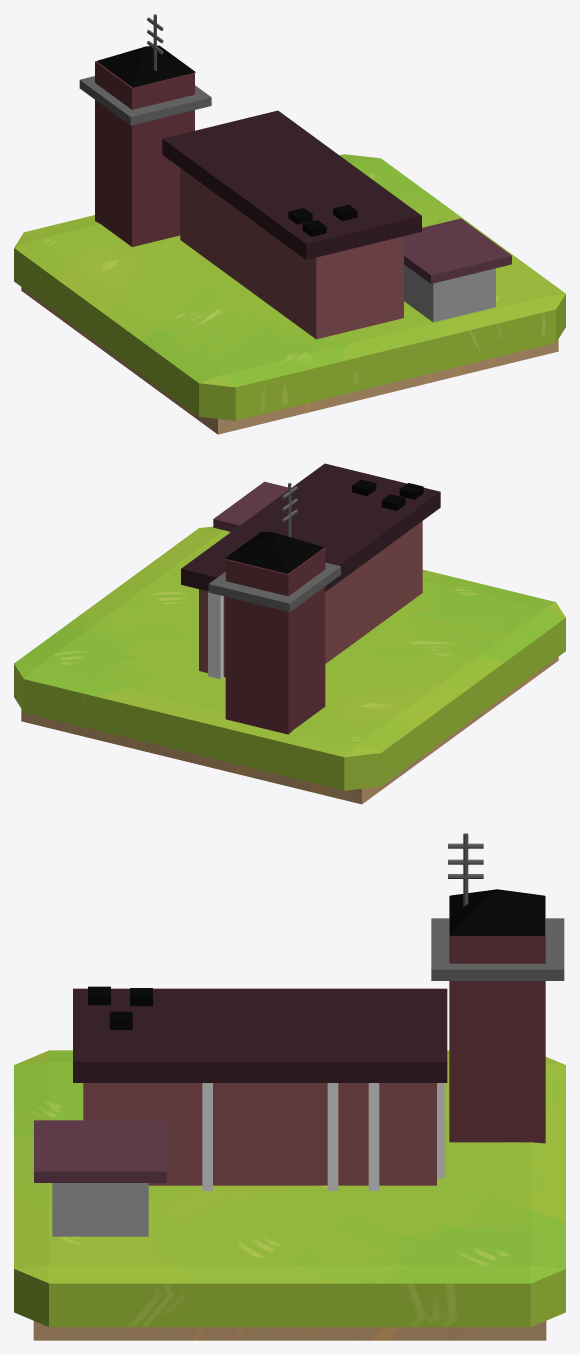
Rendered from feuerstationtile.fbx.
3 renders of one model, top to bottom at view 1: azimuth 30°, elevation 25°; view 2: azimuth 150°, elevation 25°; view 3: azimuth 270°, elevation 25°, orthographic. The views are drawn at different scales.
Parts seen in each view (by area): view 1: Cube.001, Cube.005, Cube.002, Cube.004, Cube.006, Cube, Cube.003, Cone, Cube.007; view 2: Cube.001, Cube.004, Cube.005, Cube.002, Cube, Cone, Cube.007, Cube.006, Cube.011; view 3: Cube.001, Cube.005, Cube.002, Cube.004, Cube.006, Cube, Cube.003, Cube.007, Cone, Cube.009, Cube.010, Cube.008 (+1 smaller).
Boxes of the visible parts, x1,y1,x2,y2 form: Cube.001: [14, 154, 565, 420]; Cube.005: [162, 110, 421, 259]; Cube.002: [180, 168, 403, 339]; Cube.004: [95, 61, 194, 246]; Cube.006: [404, 218, 511, 283]; Cube: [21, 287, 558, 434]; Cube.003: [404, 264, 495, 322]; Cone: [96, 45, 195, 87]; Cube.007: [79, 76, 211, 125]; Cube.001: [14, 526, 565, 790]; Cube.004: [225, 547, 325, 734]; Cube.005: [181, 463, 440, 591]; Cube.002: [199, 521, 422, 677]; Cube: [21, 657, 558, 804]; Cone: [225, 532, 323, 573]; Cube.007: [208, 562, 340, 612]; Cube.006: [213, 481, 287, 531]; Cube.011: [208, 591, 223, 678]; Cube.001: [14, 1050, 565, 1327]; Cube.005: [73, 988, 447, 1082]; Cube.002: [83, 1083, 436, 1185]; Cube.004: [449, 896, 545, 1143]; Cube.006: [34, 1120, 166, 1182]; Cube: [33, 1321, 546, 1340]; Cube.003: [52, 1183, 148, 1236]; Cube.007: [431, 918, 564, 980]; Cone: [449, 889, 544, 935]; Cube.009: [368, 1083, 379, 1190]; Cube.010: [327, 1083, 338, 1190]; Cube.008: [202, 1083, 212, 1190].
Bounding box in the file's own units: 108 × 76.55 × 108.
